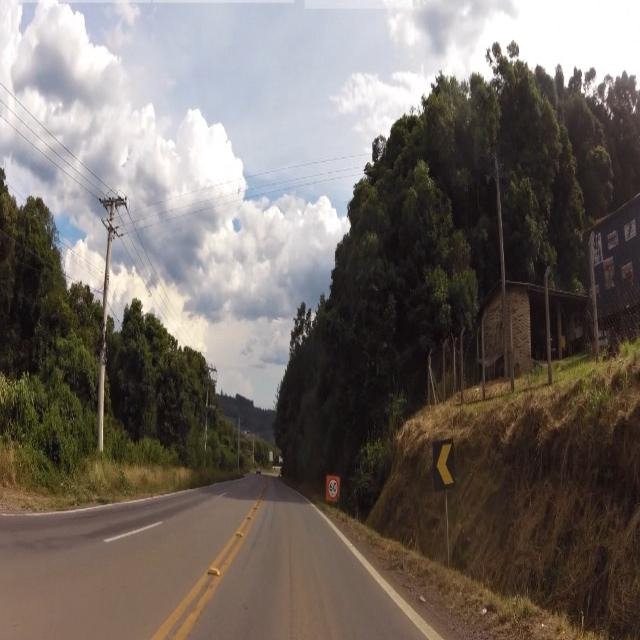Del: (431, 441, 458, 486)
R-19: (326, 476, 338, 502)
